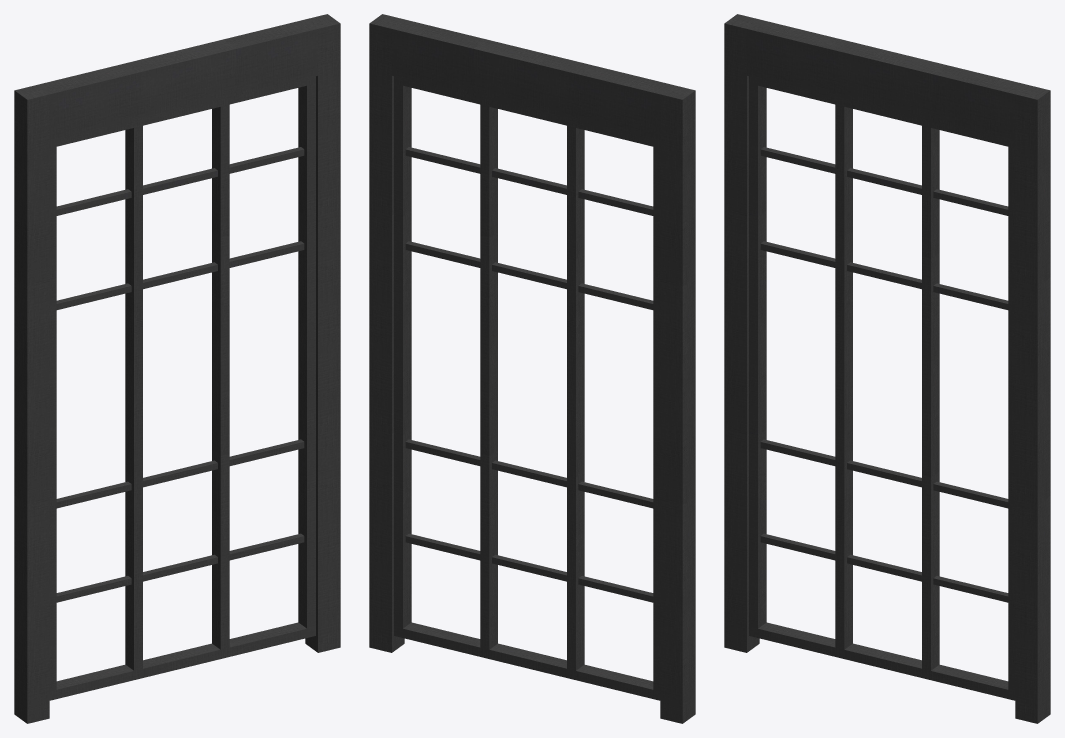
File: es-kyomatiya-kasumi_h2000_kurocha.fbx
3 views of the same model, side by side, from view 1: azimuth 30°, elevation 25°; view 2: azimuth 150°, elevation 25°; view 3: azimuth 330°, elevation 25° (orthographic).
Parts seen in each view (by area): view 1: es-kyomatiya-kasumi_h2000_kakicha.003; view 2: es-kyomatiya-kasumi_h2000_kakicha.003; view 3: es-kyomatiya-kasumi_h2000_kakicha.003.
Boxes of the visible parts, x1,y1,x2,y2 form: es-kyomatiya-kasumi_h2000_kakicha.003: (14,14,340,723); es-kyomatiya-kasumi_h2000_kakicha.003: (369,14,695,723); es-kyomatiya-kasumi_h2000_kakicha.003: (724,14,1050,723).
Size of the model in its own units: 105 by 200 by 7.5.
2 materials, 2 textured.
